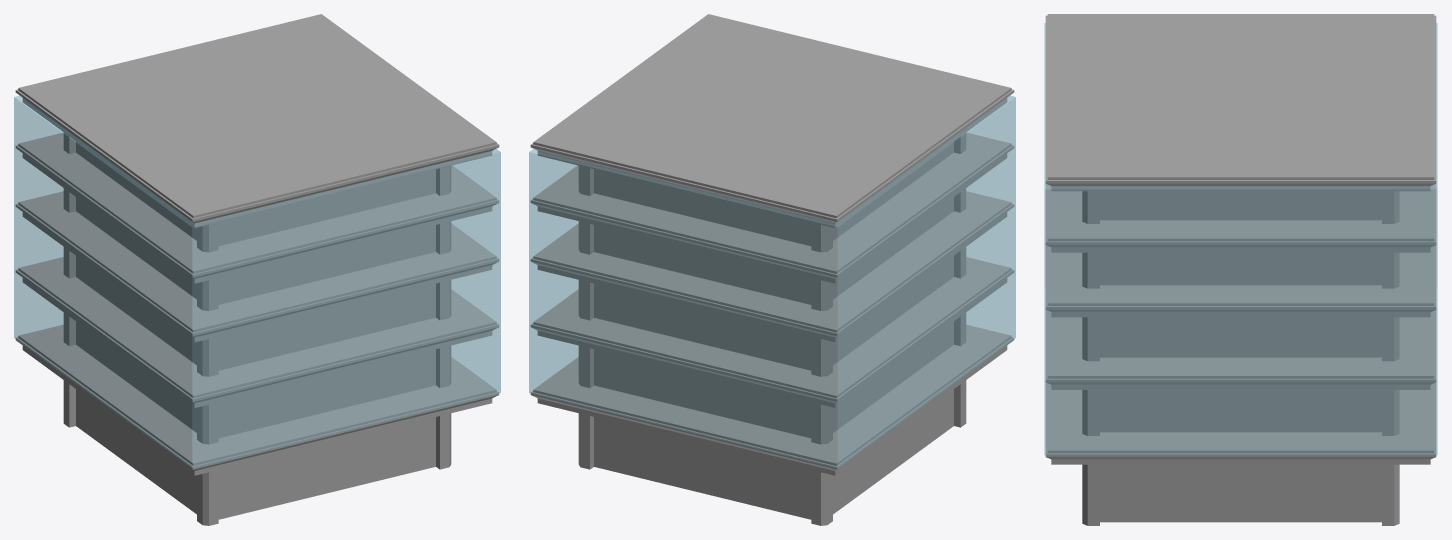
File: Building_Blockout1.fbx
3 renders of one model, left to right at view 1: azimuth 30°, elevation 25°; view 2: azimuth 150°, elevation 25°; view 3: azimuth 270°, elevation 25°, orthographic. The views are drawn at different scales.
Visible parts, largest first — view 1: pCube21; view 2: pCube21; view 3: pCube21.
Part boxes in pixels (x1,y1,x2,y2): pCube21: (14,14,500,525); pCube21: (529,14,1015,525); pCube21: (1044,14,1437,525).
Size of the model in its own units: 611 by 623 by 611.
